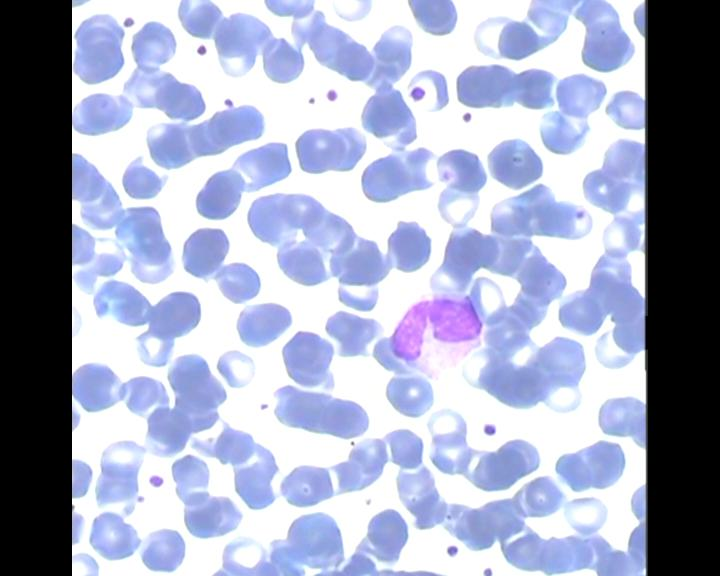mono: (388, 292, 482, 379)
